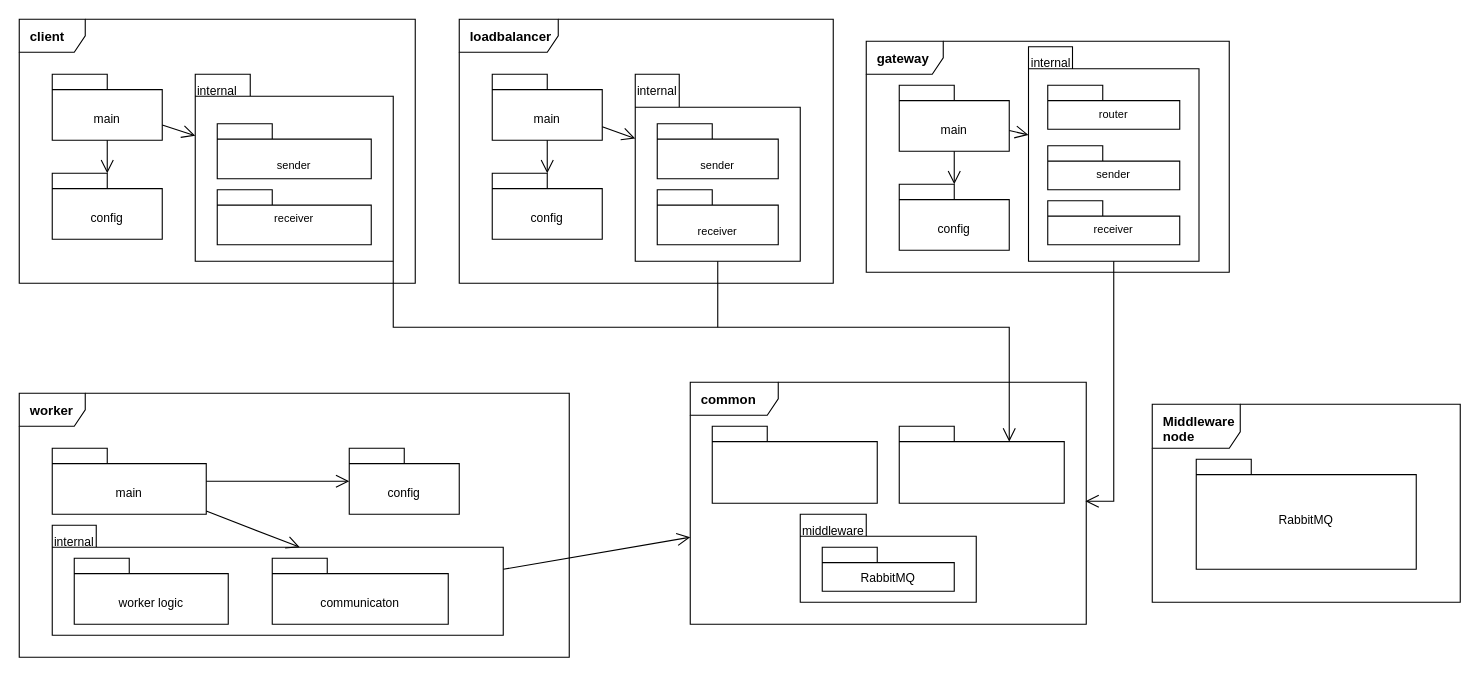
This 1480x677 diagram has some shape labels left out. Each missing label, with the centre of its shape:
"models" goes at (794,464).
"protocol" goes at (981,464).
